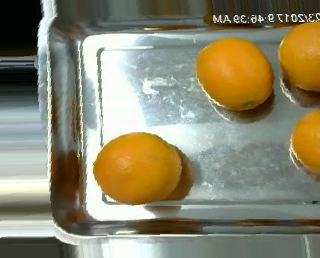Orange: (93, 131, 183, 205), (194, 38, 274, 111)
